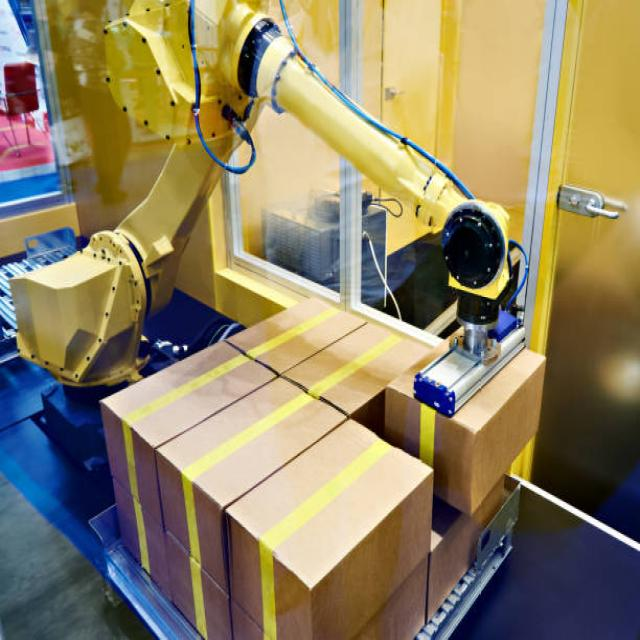Robotic-arm: (9, 0, 521, 384)
